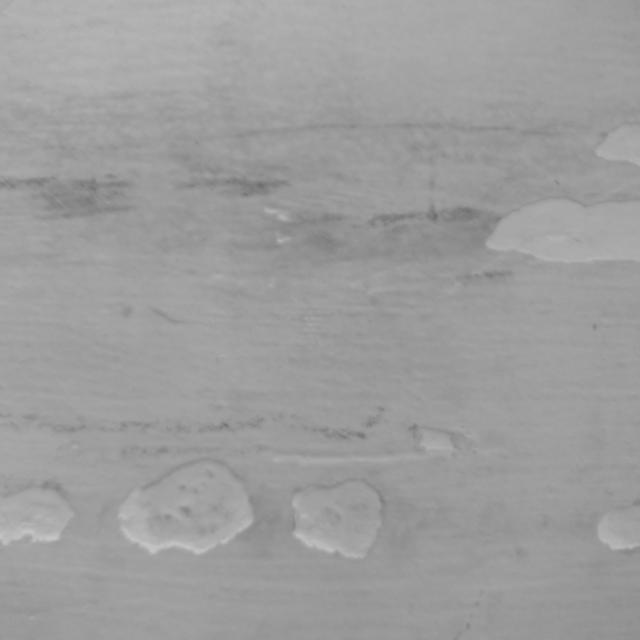rough and patchy surface: (0, 8, 640, 633)
